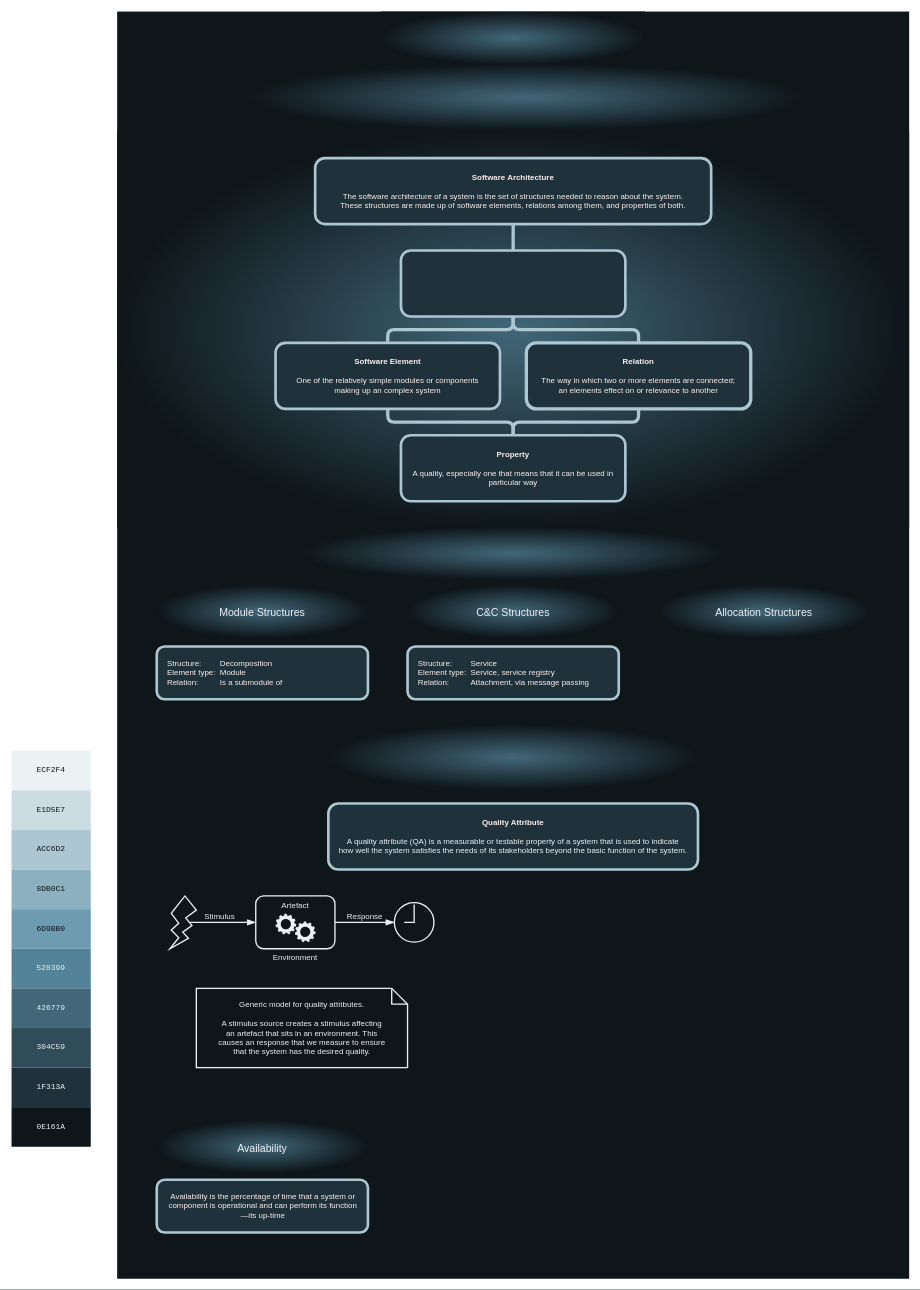
The diagram is 920 pixels wide and 1290 high, and some of its shapes have lost their labels. The centre of each missing label's shape, as x and y in pixels:
"Infographics on the Book" belongs at (513,37).
"PART II Quality Attributes" belongs at (513,757).
"Response Measure" belongs at (413,922).
"Software Architecture in Practice" belongs at (526,97).
"Stimulus Source" belongs at (183,922).
"Structure Something of many parts that is put together." belongs at (512,283).
"Useful Architectural Structures" belongs at (513,553).
